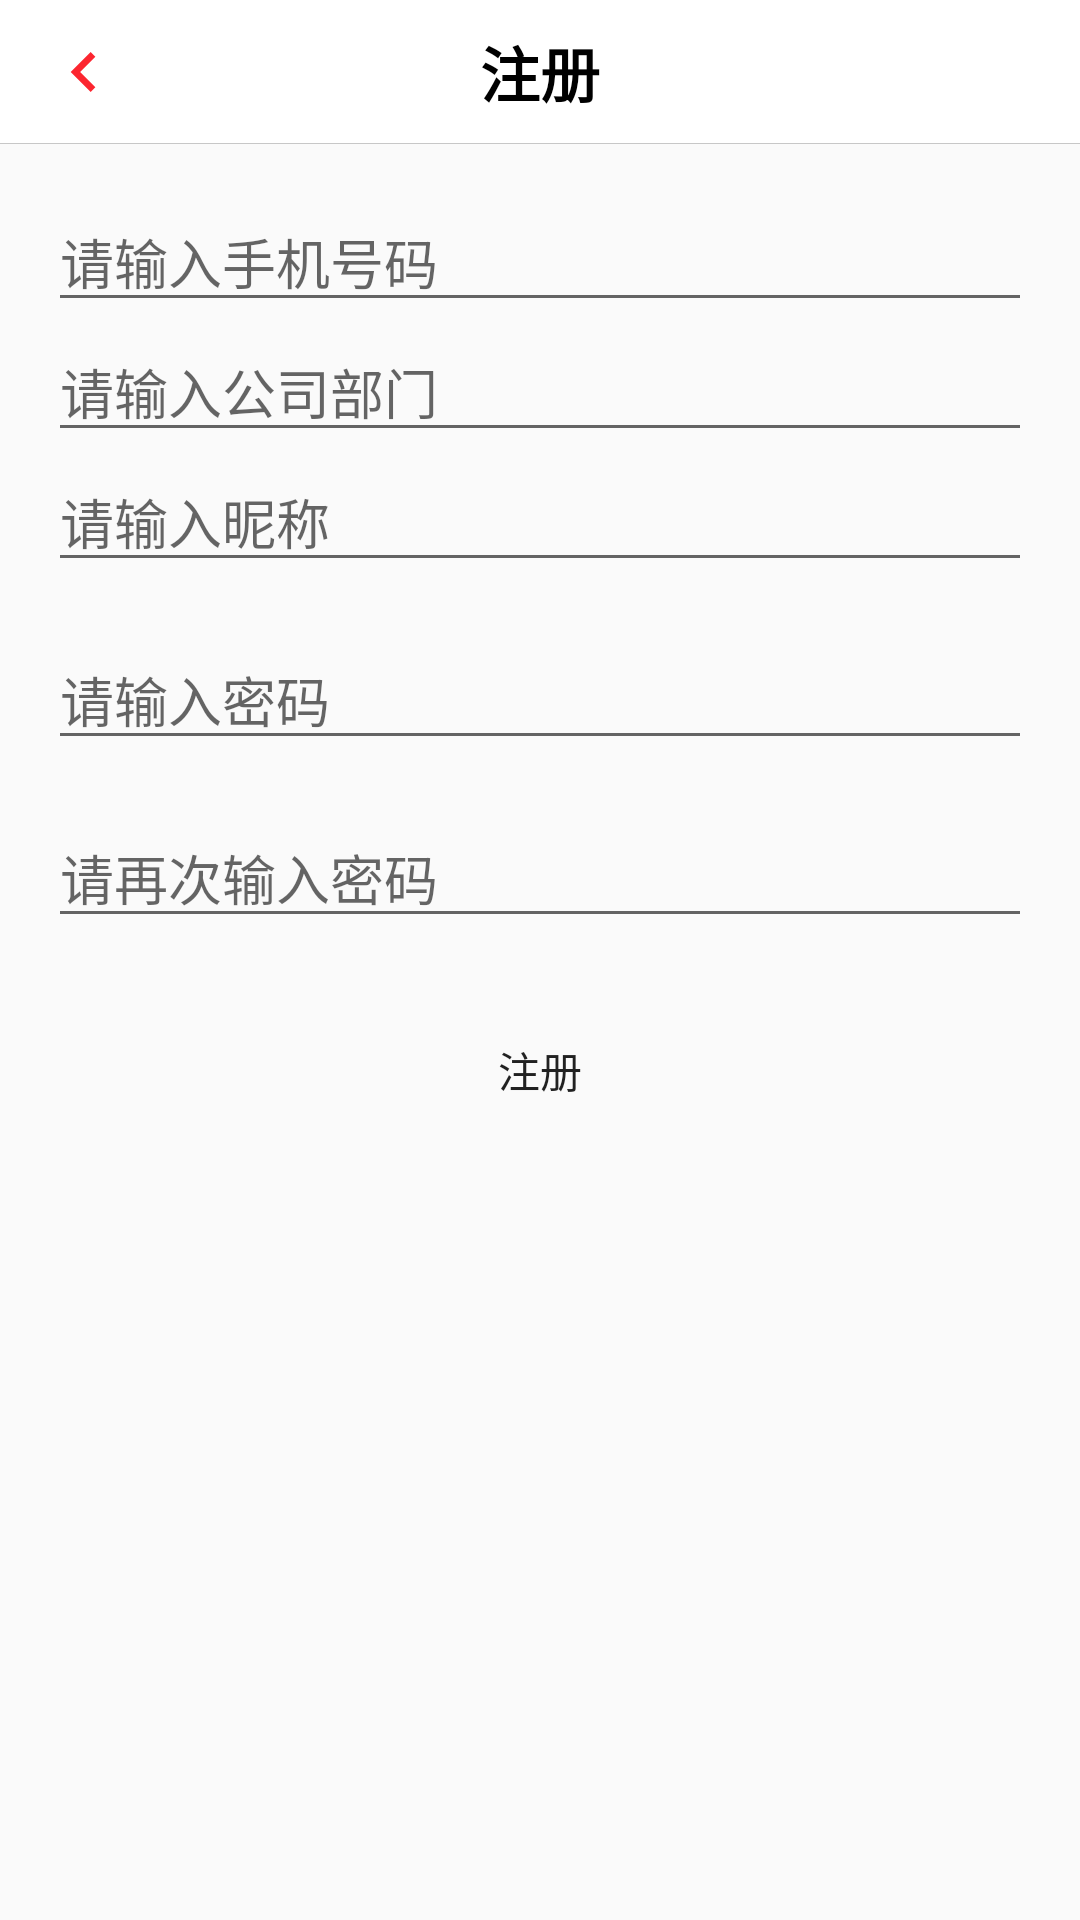

Icons on this 1080px×1920px Android screen, each with the point to tap as (x=x, y=y):
back: (x=83, y=72)
